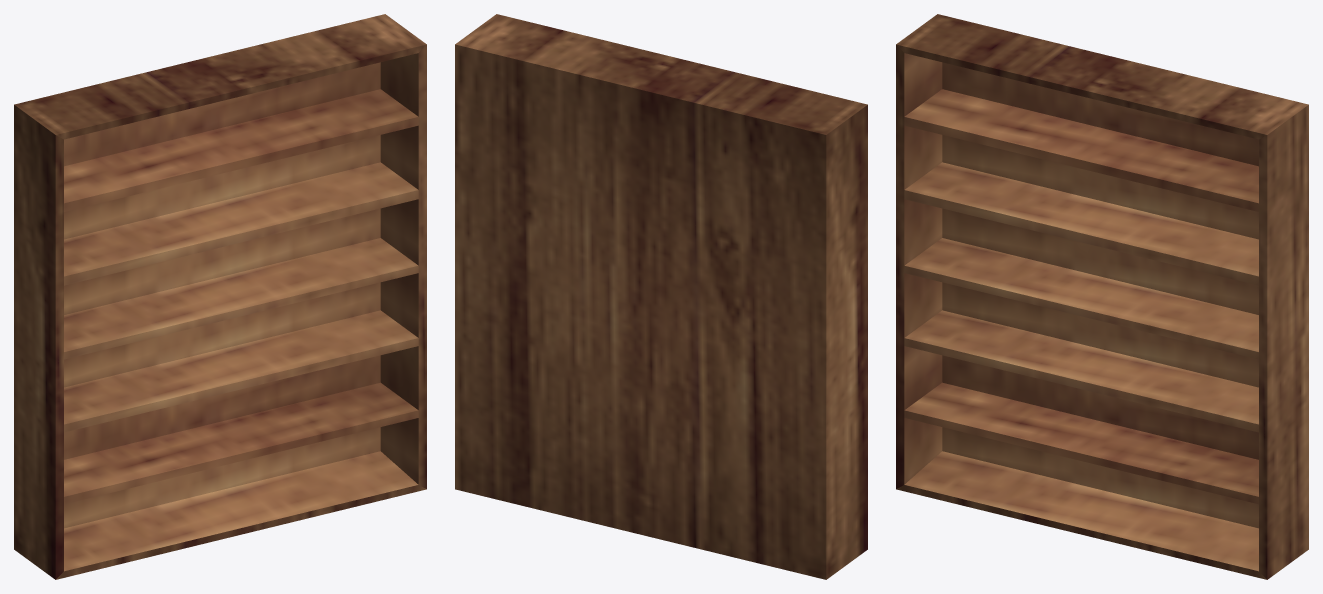
The model's file is estante_livros.fbx.
3 views of the same model, side by side, from view 1: azimuth 30°, elevation 25°; view 2: azimuth 150°, elevation 25°; view 3: azimuth 330°, elevation 25° (orthographic).
Visible parts, largest first — view 1: Cube; view 2: Cube; view 3: Cube.
Part boxes in pixels (x1,y1,x2,y2): Cube: (14, 14, 426, 579); Cube: (455, 14, 867, 579); Cube: (896, 14, 1308, 579).
Bounding box in the file's own units: 347 × 397 × 67.32.
1 material, 1 textured.
